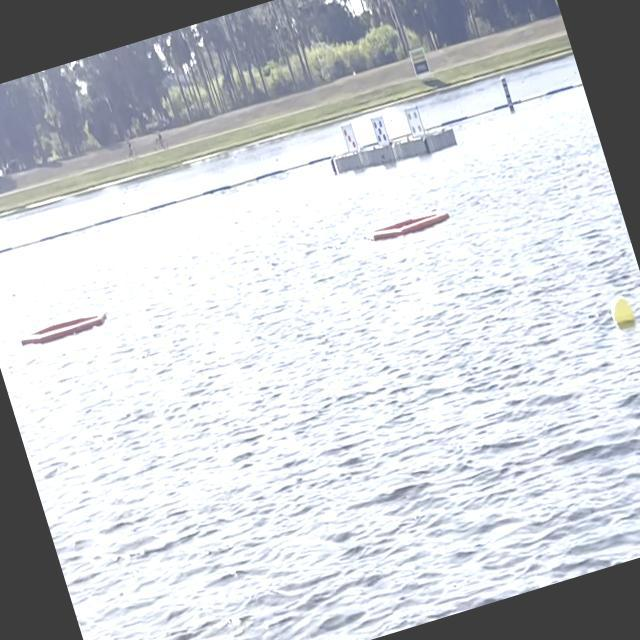buoy: (608, 294, 635, 326)
